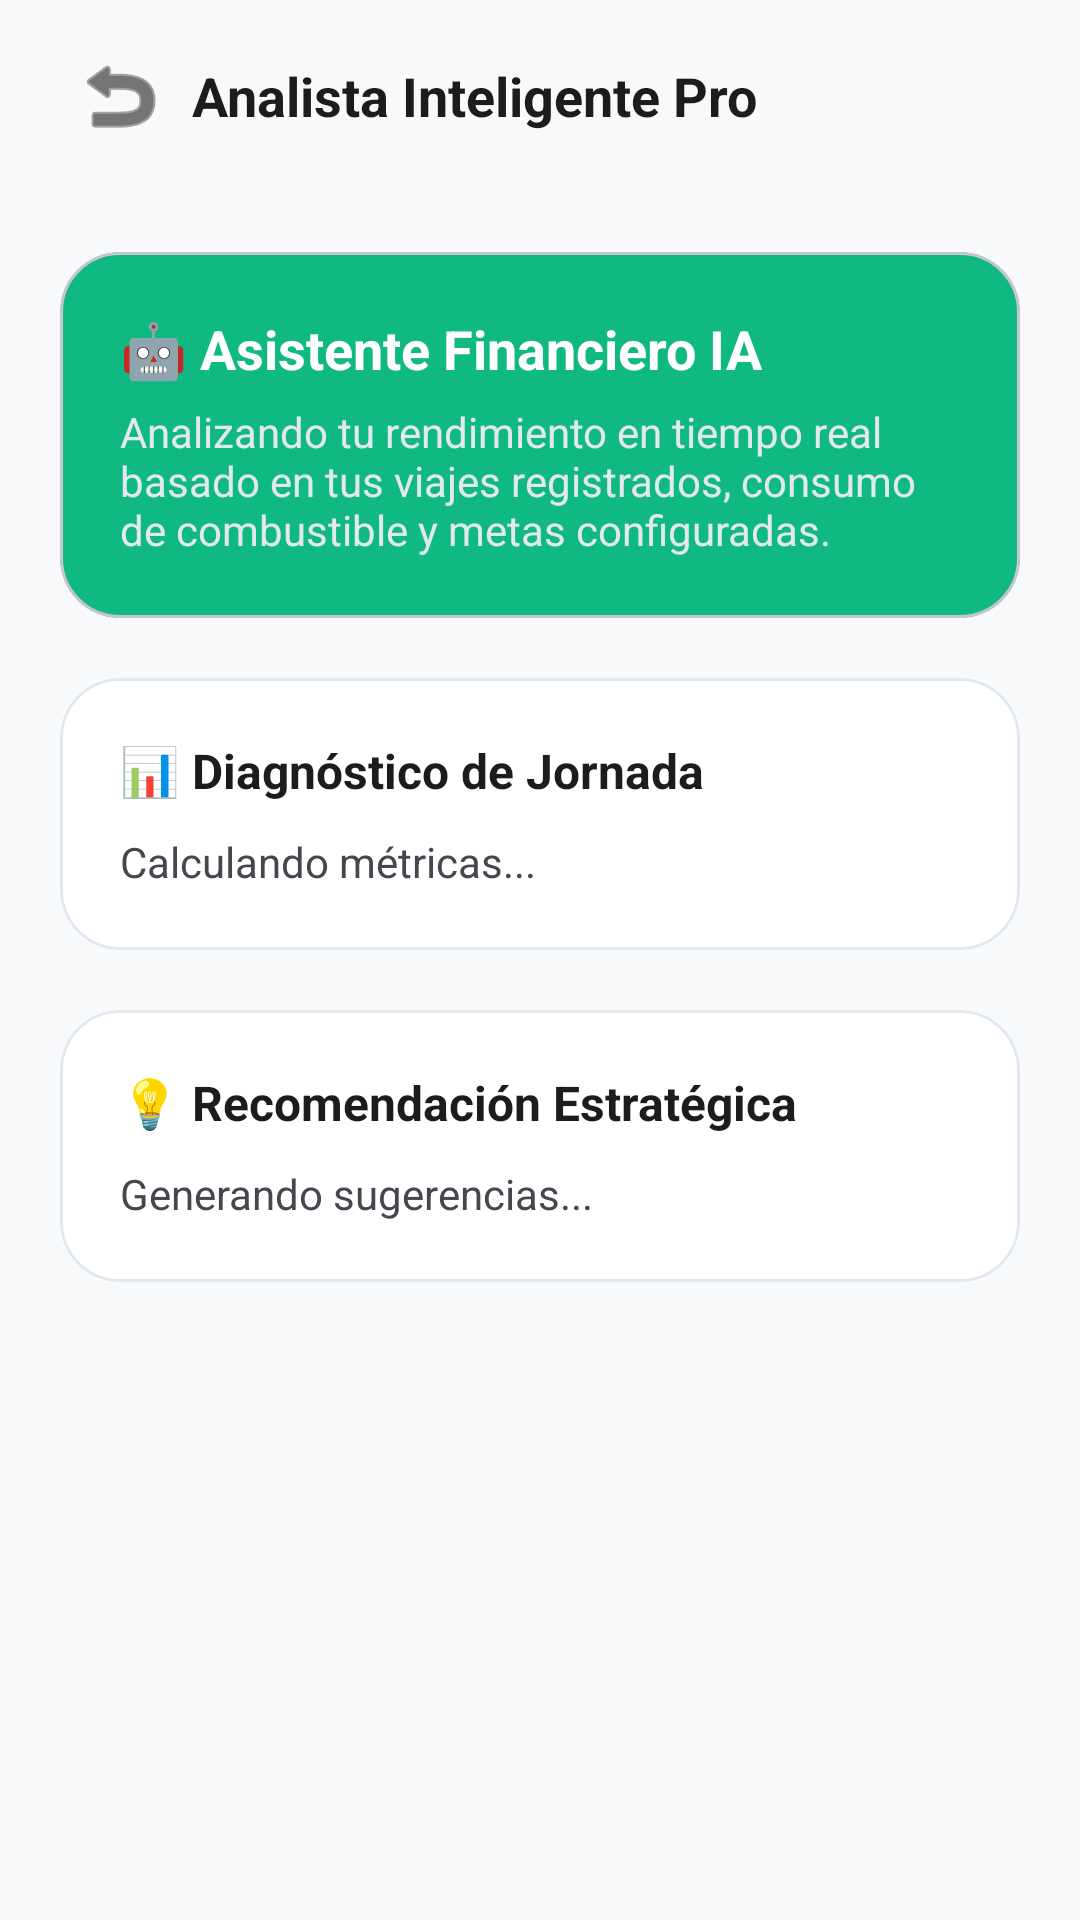

Where icons sit on this 1080px x 1920px app screen, as (x1, y1, x2, y2):
revert: (87, 65, 156, 128)
